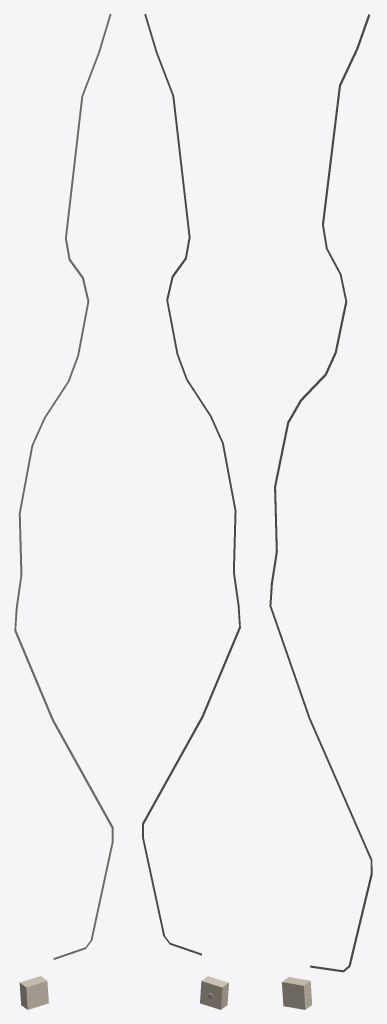
The model's file is historic-palestine-09_28_3505_3221.glb.
3 views of the same model, side by side, from view 1: azimuth 30°, elevation 25°; view 2: azimuth 150°, elevation 25°; view 3: azimuth 330°, elevation 25° (orthographic). The views are drawn at different scales.
Visible parts, largest first — view 1: Road, Building_; view 2: Road, Building_; view 3: Road, Building_.
Boxes of the visible parts, x1,y1,x2,y2 form: Road: (14, 14, 113, 959); Building_: (19, 976, 48, 1009); Road: (142, 14, 240, 955); Building_: (200, 976, 228, 1009); Road: (269, 14, 372, 972); Building_: (282, 977, 312, 1009).
Bounding box in the file's own units: 64.51 × 606 × 8.7.
